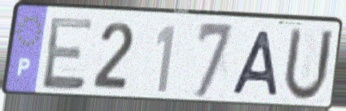1: (154, 23, 178, 95)
2: (90, 20, 138, 94)
7: (194, 20, 237, 101)
A: (229, 29, 281, 99)
E: (40, 14, 96, 93)
U: (280, 24, 337, 105)
